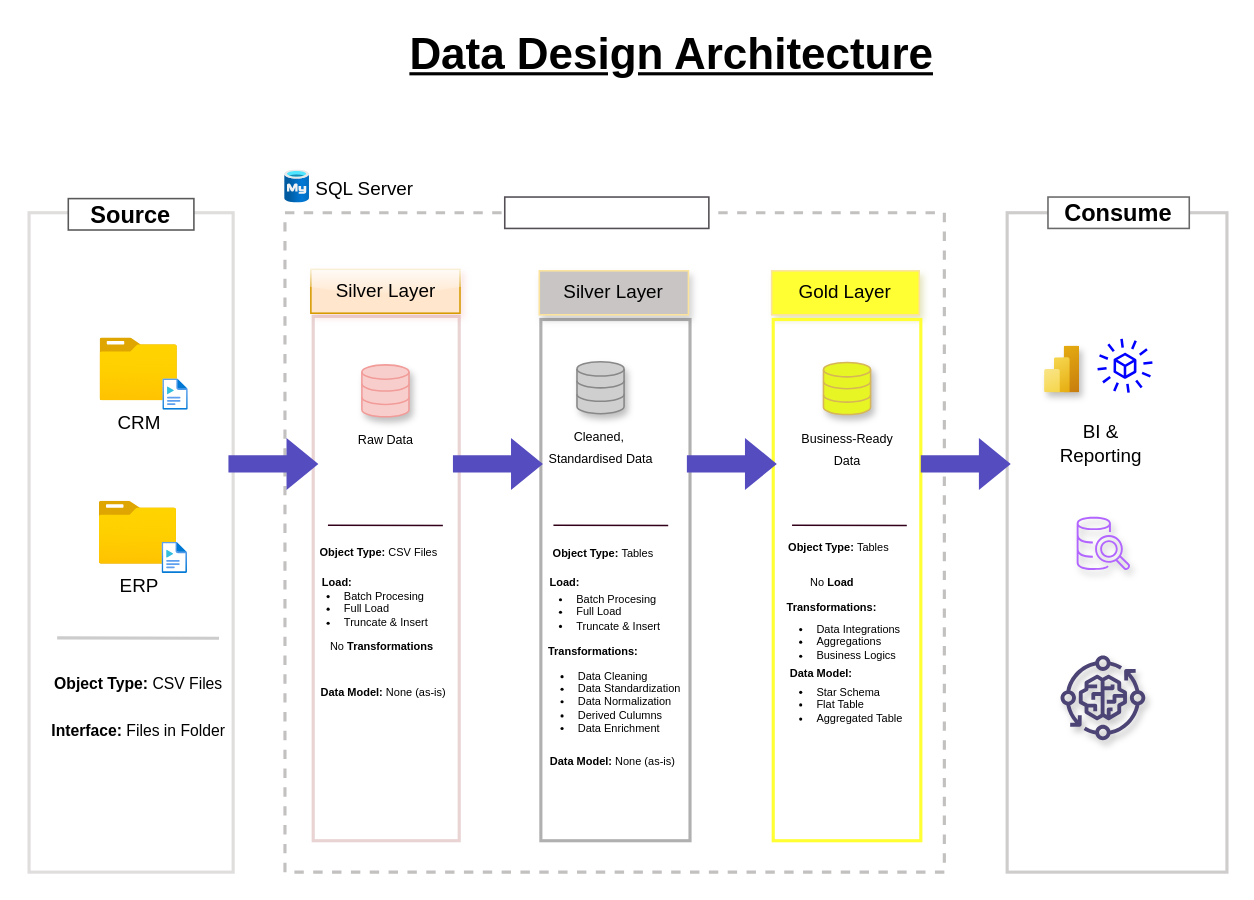
This 1254x900 diagram has some shape labels left out. Here are the shapes that lost their labels. From the top down, the centre of each, then its label:
At [606,211]: "Data Warehouse".
At [1104,545]: "Ad-Hoc SQL Quaries".
At [1103,699]: "Machine Lerning".
